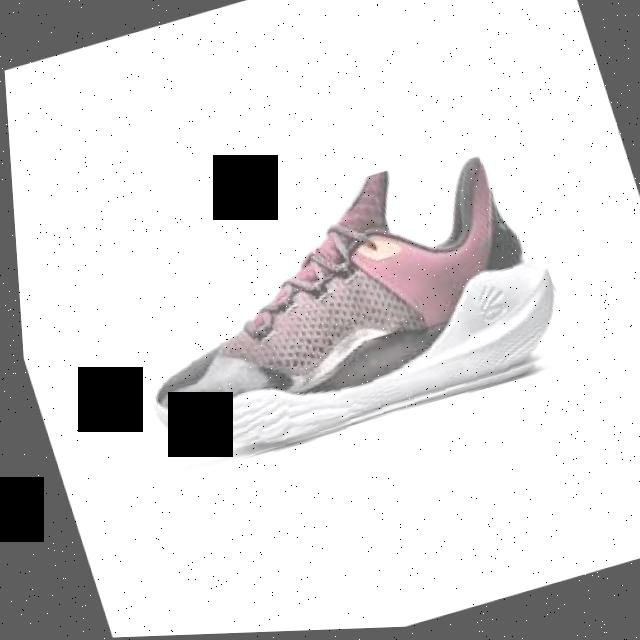shoe: (94, 138, 578, 483)
